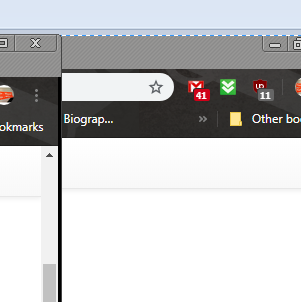close: (14, 33, 57, 52)
